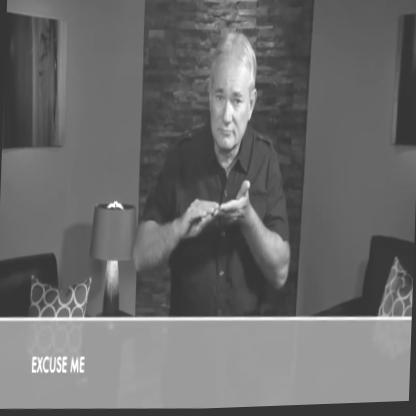ExcuseMe: (132, 24, 300, 317)
